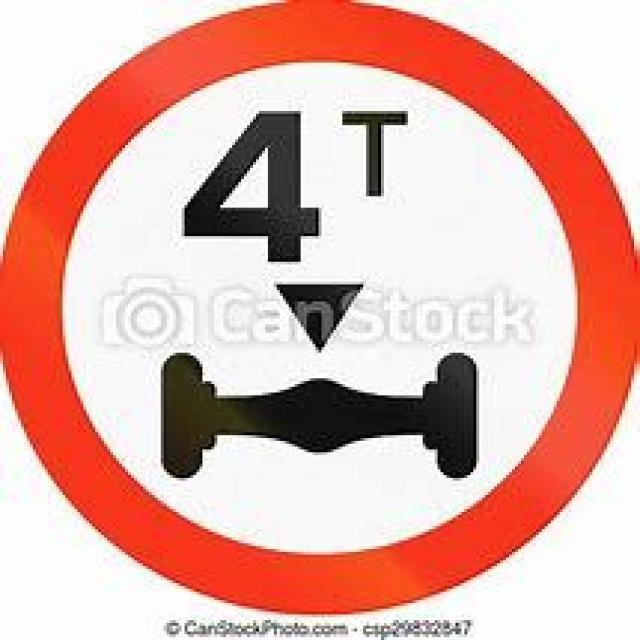axle load limit: (11, 9, 626, 611)
